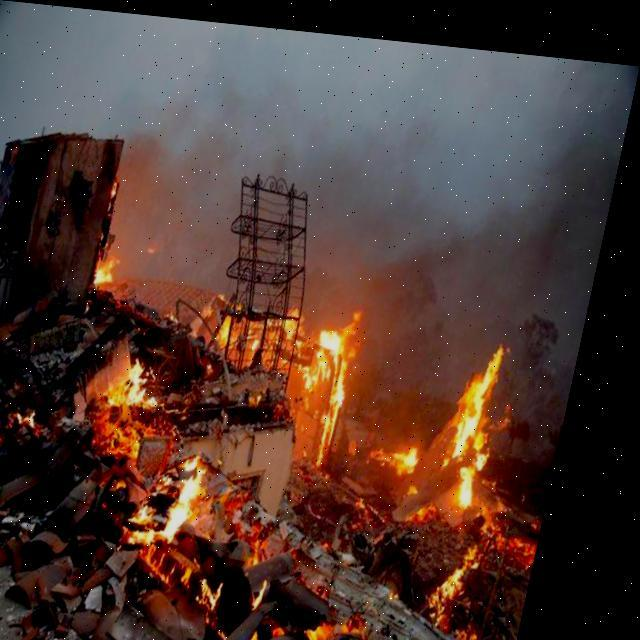Fire: (75, 336, 272, 567), (216, 250, 406, 482), (400, 312, 540, 497), (88, 233, 144, 300)
